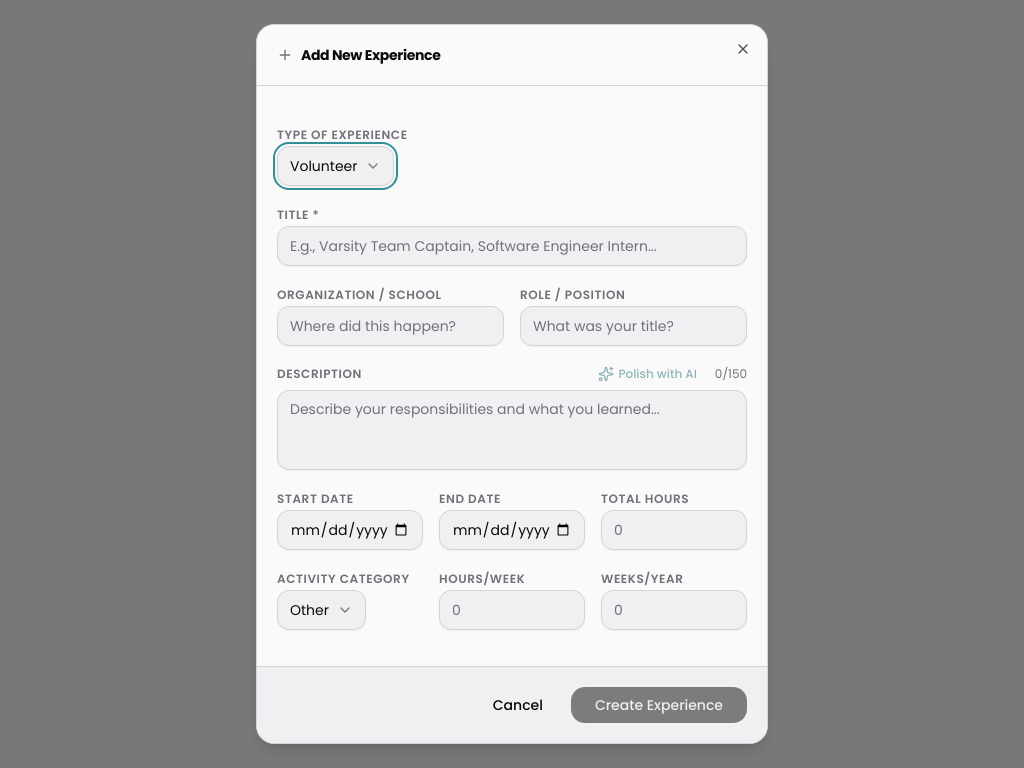
Test: PortfolioFormDialog — total hours auto-fill (#403) › fills Total = Hours/Week × Weeks/Year when the student has not typed a total
Type "4" into the number field labelled "Hours/Week" at (512, 610), box [439, 590, 585, 630]
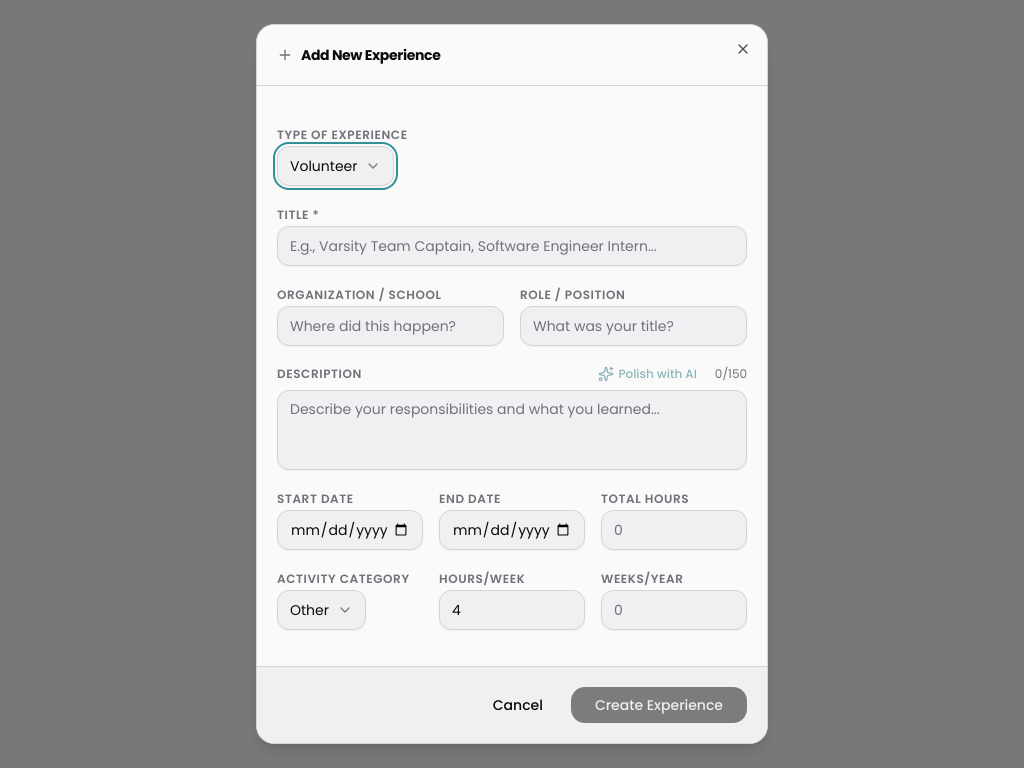
Check: the number field labelled "Total Hours" is empty, box [601, 510, 747, 550]
Type "40" into the number field labelled "Weeks/Year" at (674, 610), box [601, 590, 747, 630]
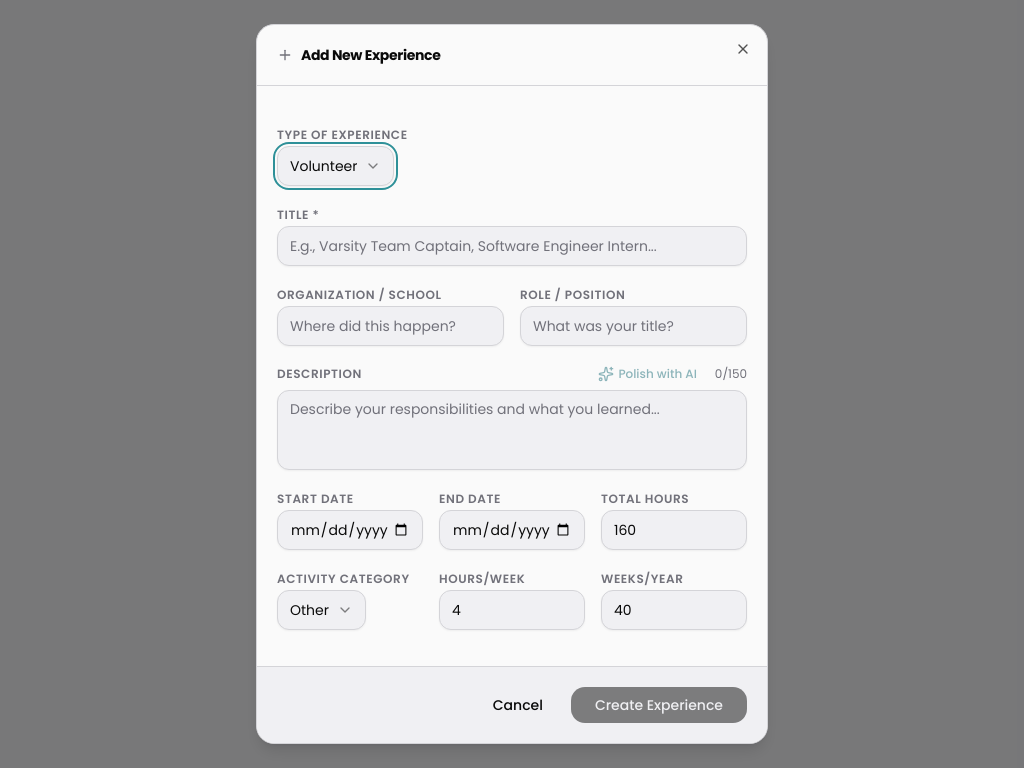
Check: the number field labelled "Total Hours" holds "160", box [601, 510, 747, 550]
# keeps following while untouched
Replace the text in the number field labelled "Hours/Week" with "5" at (512, 610), box [439, 590, 585, 630]
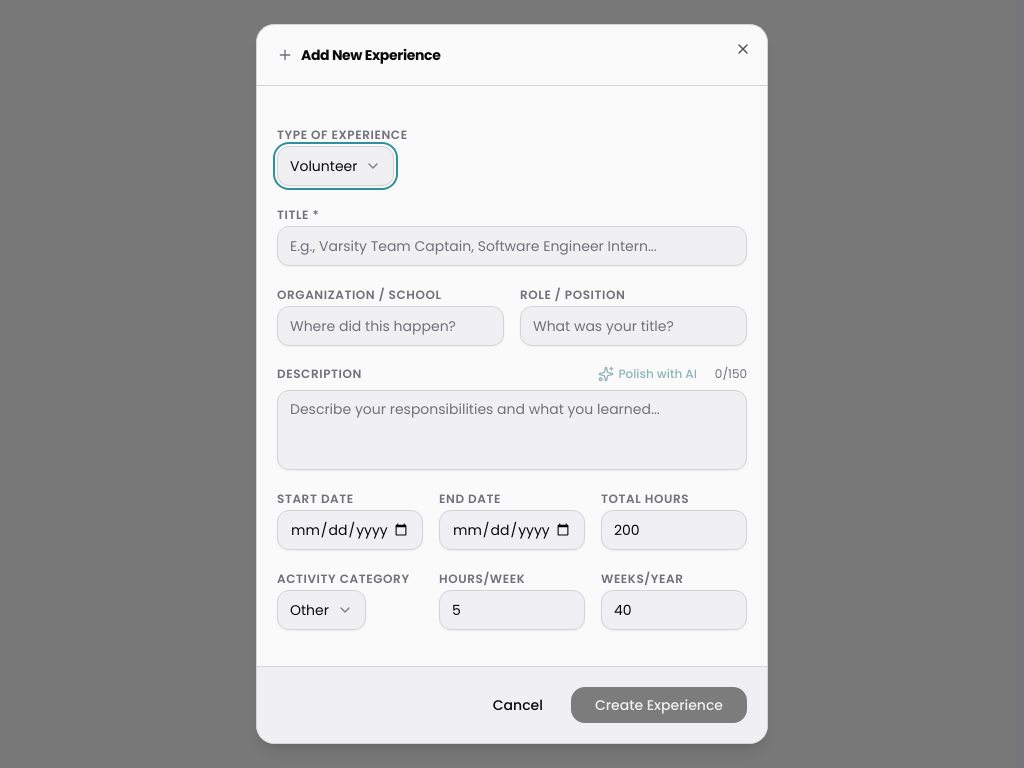
Check: the number field labelled "Total Hours" holds "200", box [601, 510, 747, 550]
